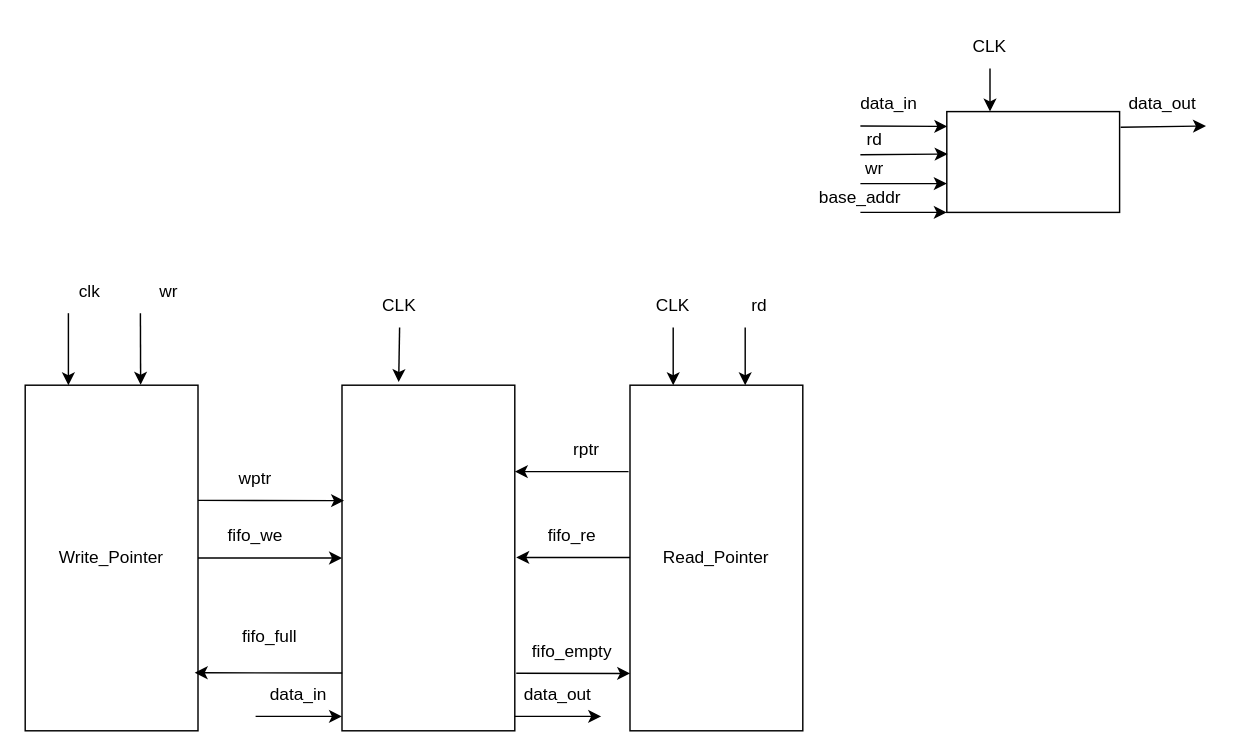
Some shapes in this 1243 by 756 pixel diagram are drawn without their labels. The box of each missing label's shape, as (x1, y1, x2, y2) in pixels:
FIFO_Memory: (945, 110, 1120, 212)
Memory_array: (341, 384, 515, 731)
